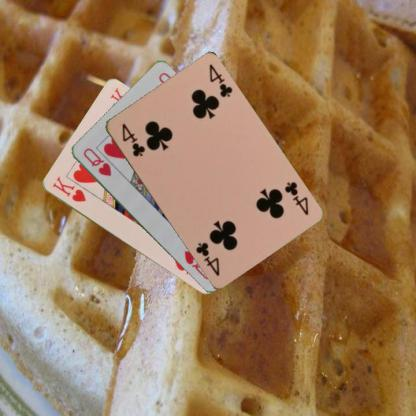4c: (281, 178, 310, 216), (119, 120, 146, 158)
Kh: (49, 174, 87, 203)
Qh: (80, 145, 112, 178)
